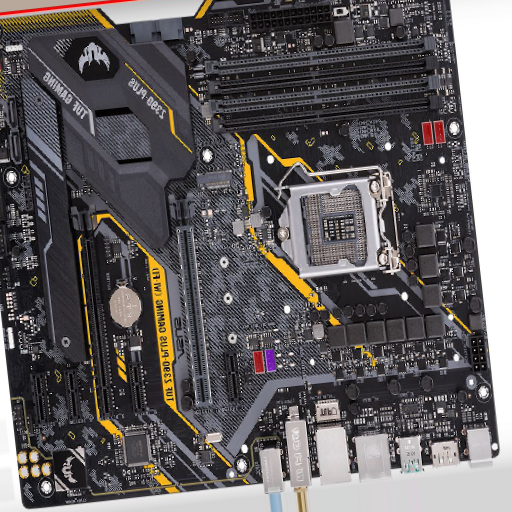CPU: (279, 173, 400, 280)
GPU: (71, 203, 119, 421), (169, 191, 215, 407)
MOTHERBOARD: (1, 1, 501, 493)
RAM: (201, 36, 443, 138)
SSD: (195, 168, 234, 190)
